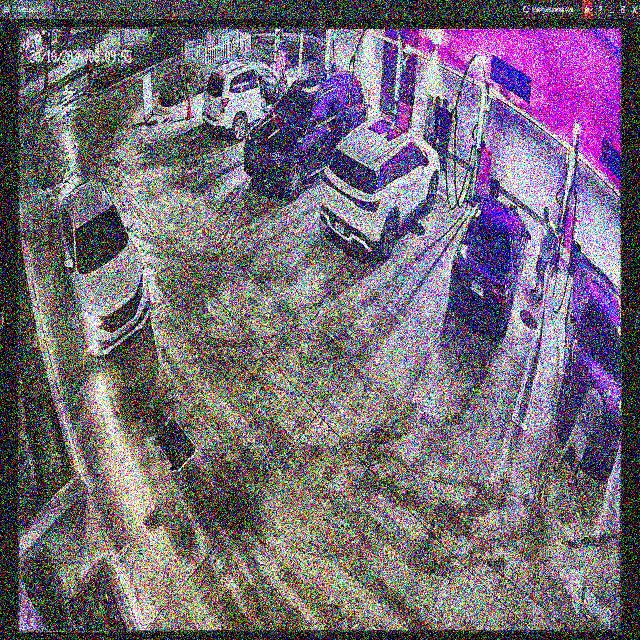Car: (54, 177, 149, 361), (322, 116, 439, 258), (242, 67, 368, 192), (450, 195, 530, 338), (204, 57, 296, 143)
